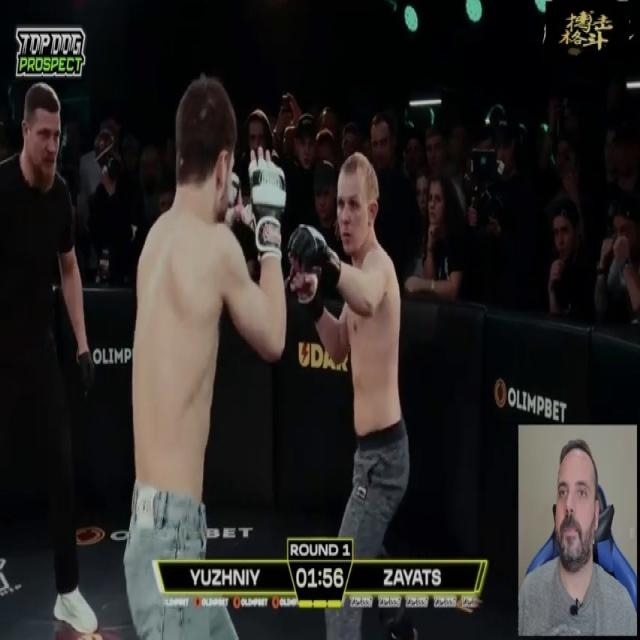fight: (119, 71, 412, 640)
non-fight: (0, 77, 101, 634)
